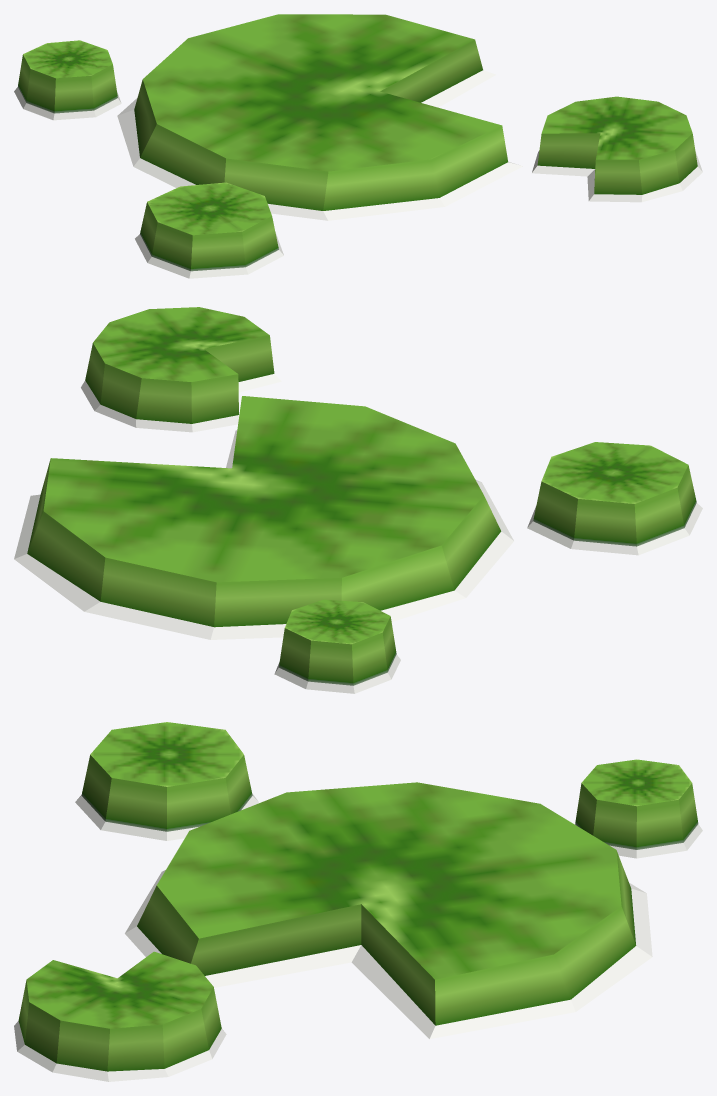
Rendered from Poly_Lotus_03.obj.
3 renders of one model, top to bottom at view 1: azimuth 30°, elevation 25°; view 2: azimuth 150°, elevation 25°; view 3: azimuth 270°, elevation 25°, orthographic. The views are drawn at different scales.
Visible parts, largest first — view 1: Circle.001, Circle.002; view 2: Circle.001, Circle.002; view 3: Circle.001, Circle.002.
Boxes of the visible parts, x1=… form: Circle.001: x1=117, y1=14, x2=702, y2=220; Circle.002: x1=14, y1=40, x2=283, y2=278; Circle.001: x1=14, y1=307, x2=513, y2=639; Circle.002: x1=274, y1=442, x2=702, y2=693; Circle.001: x1=14, y1=782, x2=652, y2=1081; Circle.002: x1=75, y1=722, x2=702, y2=858.
Bounding box in the file's own units: 1 × 0.0702 × 0.915.
Materials: 1 (1 with a texture image).
